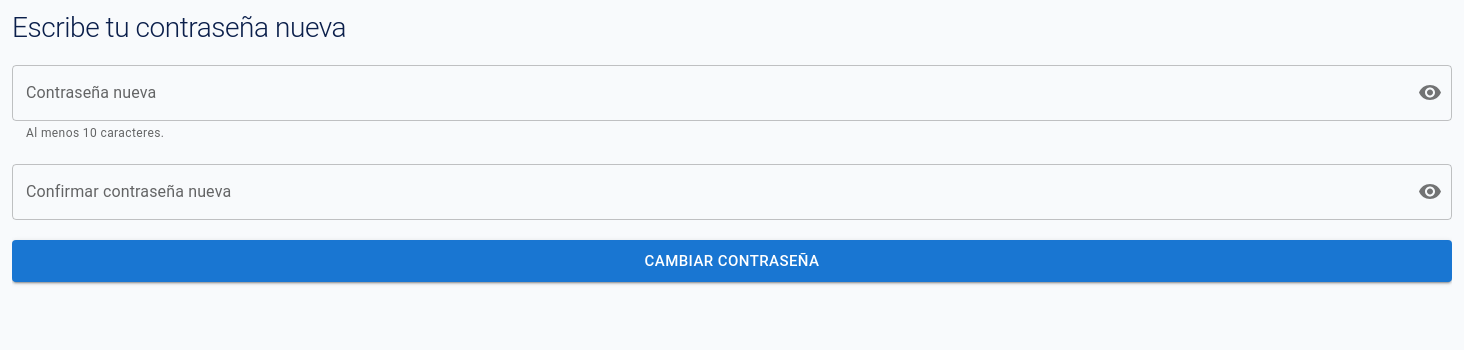
it: FormularioRestablecer › sin red: avisa del fallo de conexión y el mismo enlace sigue sirviendo
In the password field labelled "Contraseña nueva": x=707, y=93 [12,65,1402,121], type "contrasena-nueva-1"
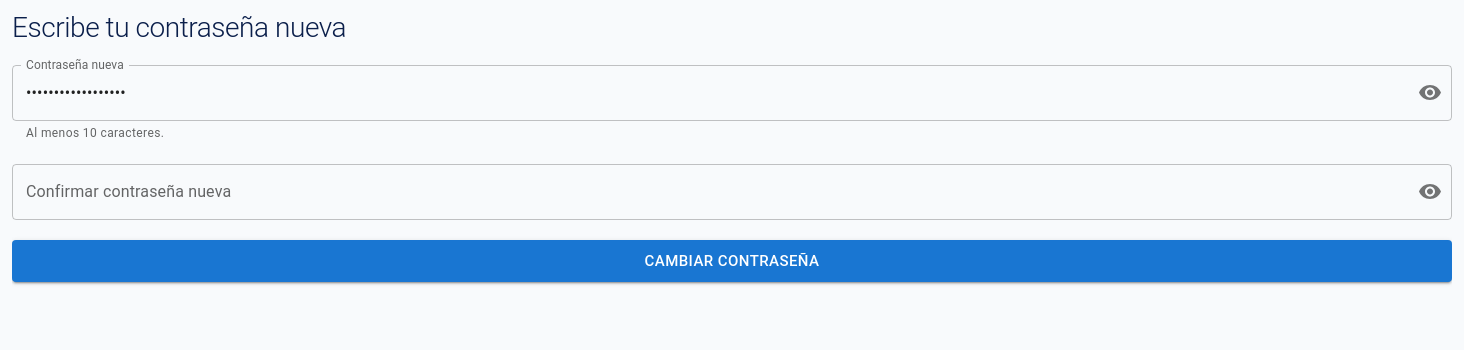
In the password field labelled "Confirmar contraseña nueva": x=707, y=192 [12,164,1402,220], type "contrasena-nueva-1"
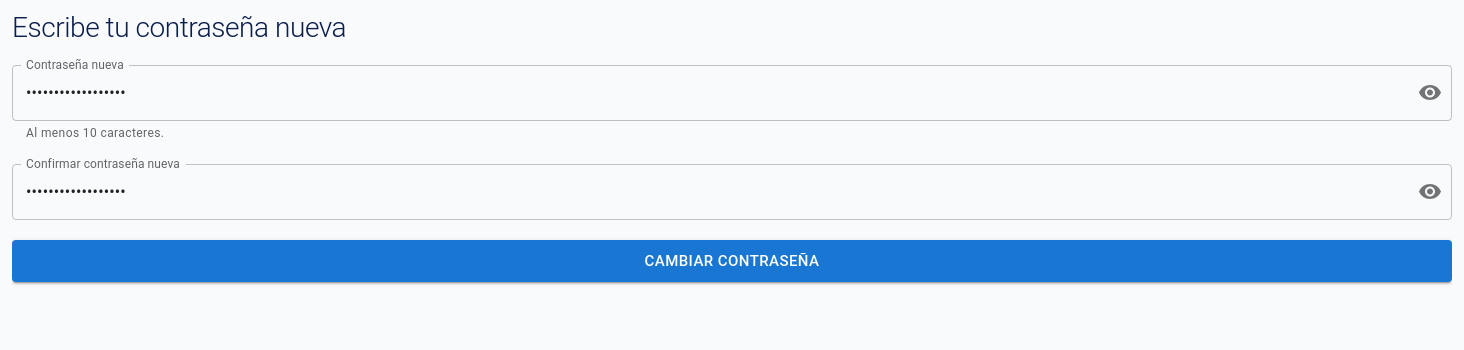
Submit the form named "Cambiar contraseña"
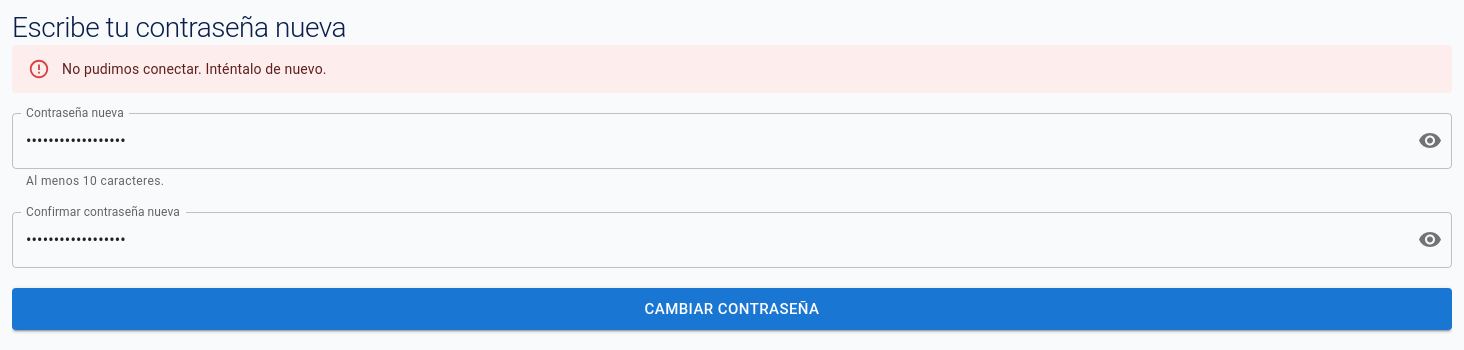
Expected: the button "Cambiar contraseña" is enabled, [12,288,1452,330]
Now the message reads "No pudimos conectar. Inténtalo de nuevo.", box [62,61,327,77]
